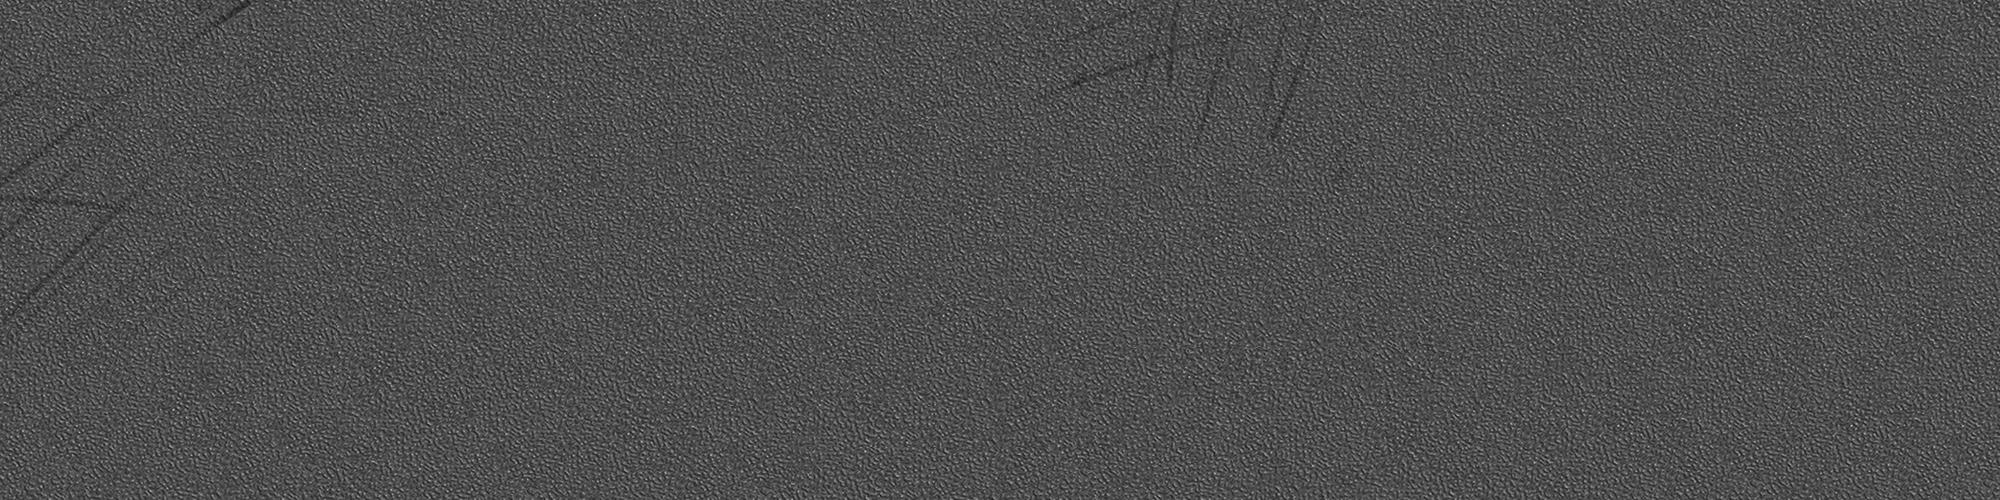Scratches: (3, 4, 250, 187), (1051, 6, 1319, 156), (1, 165, 198, 341), (1318, 122, 1364, 198), (230, 91, 337, 117), (4, 68, 55, 114), (54, 335, 94, 390)
